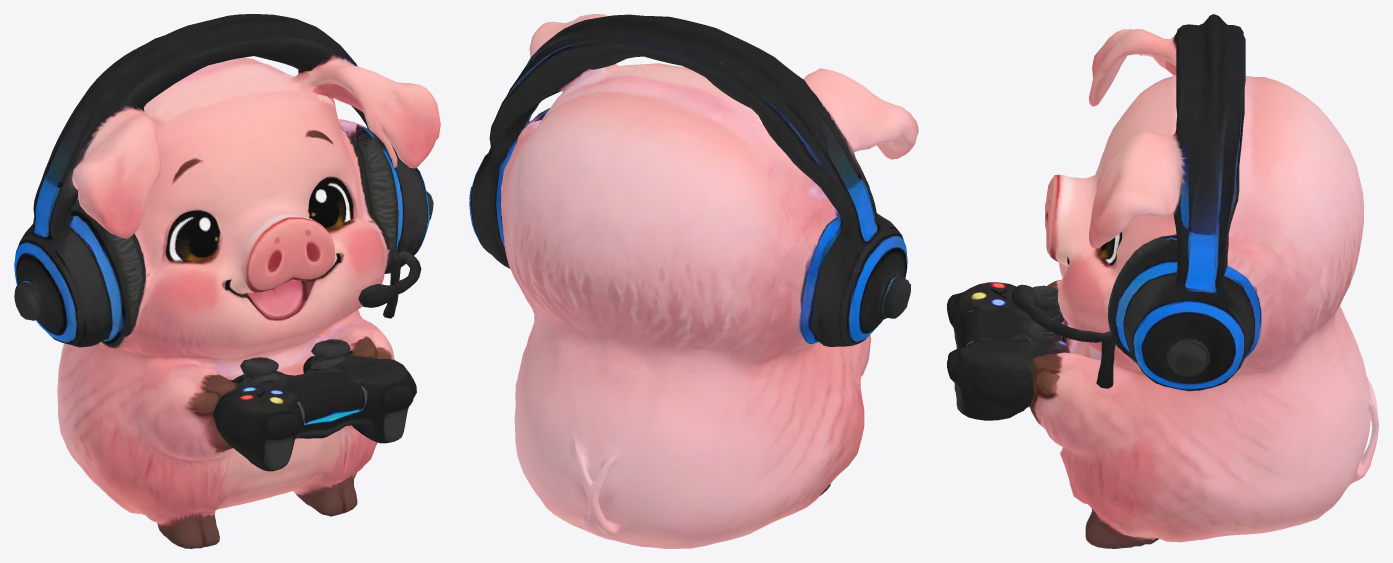
The model's file is daigua.glb.
The picture shows the model from 3 angles, left to right: view 1: azimuth 30°, elevation 25°; view 2: azimuth 150°, elevation 25°; view 3: azimuth 270°, elevation 25°; orthographic projection. The views are drawn at different scales.
Size of the model in its own units: 1.75 by 1.91 by 1.59.
Materials: 1 (1 with a texture image).
